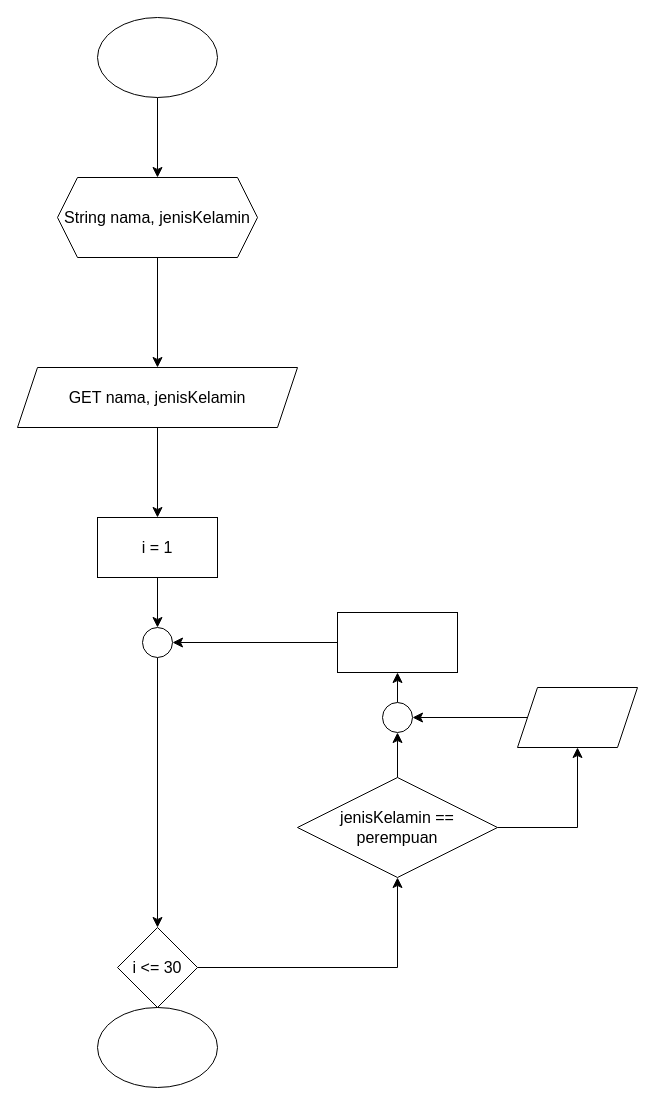
This 655x1105 diagram has some shape labels left out. The shapes that lost their labels are listed below. From the top down, each one's centre as x and y in pixels, then its label:
At point (397, 642): "i ++".
At point (577, 717): "print nama".
